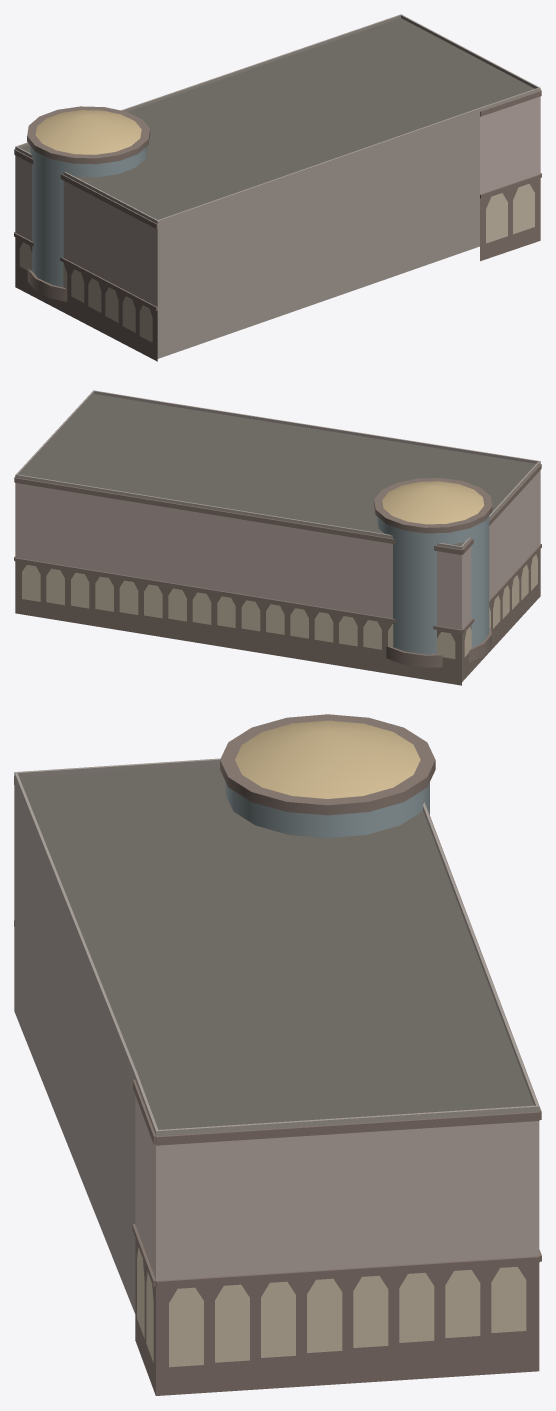
File: neiman_lod1.glb
3 renders of one model, top to bottom at view 1: azimuth 30°, elevation 25°; view 2: azimuth 150°, elevation 25°; view 3: azimuth 270°, elevation 25°, orthographic. The views are drawn at different scales.
Parts seen in each view (by area): view 1: L1_granite, L1_roof, L1_clear, L1_shop, L1_win; view 2: L1_granite, L1_roof, L1_shop, L1_clear, L1_win; view 3: L1_granite, L1_roof, L1_shop, L1_win, L1_clear.
Boxes of the visible parts, x1=… form: L1_granite: x1=14, y1=14, x2=541, y2=361; L1_roof: x1=21, y1=18, x2=534, y2=219; L1_clear: x1=30, y1=146, x2=146, y2=287; L1_shop: x1=19, y1=183, x2=534, y2=342; L1_win: x1=35, y1=110, x2=141, y2=154; L1_granite: x1=14, y1=390, x2=541, y2=685; L1_roof: x1=20, y1=394, x2=535, y2=546; L1_shop: x1=22, y1=554, x2=537, y2=658; L1_clear: x1=377, y1=516, x2=489, y2=654; L1_win: x1=382, y1=481, x2=484, y2=524; L1_granite: x1=14, y1=714, x2=541, y2=1395; L1_roof: x1=19, y1=764, x2=533, y2=1129; L1_shop: x1=137, y1=1247, x2=526, y2=1367; L1_win: x1=235, y1=720, x2=420, y2=798; L1_clear: x1=225, y1=782, x2=429, y2=837.
Size of the model in its own units: 98.81 by 38.43 by 56.84.
